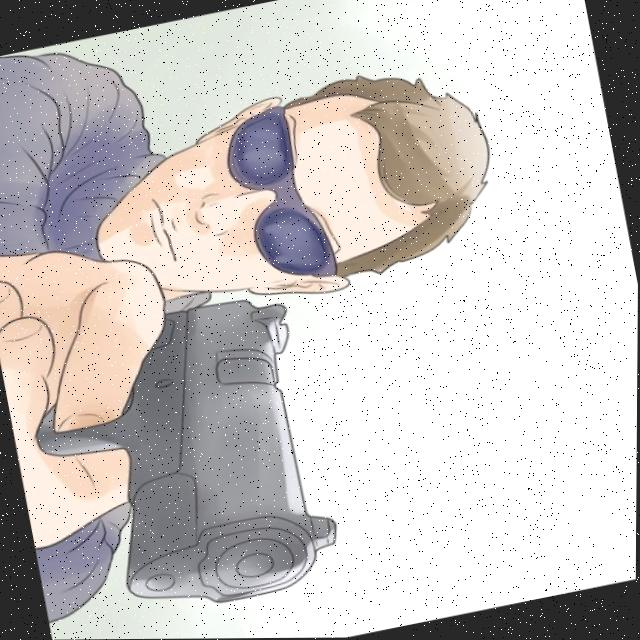pistol: (12, 286, 357, 636)
